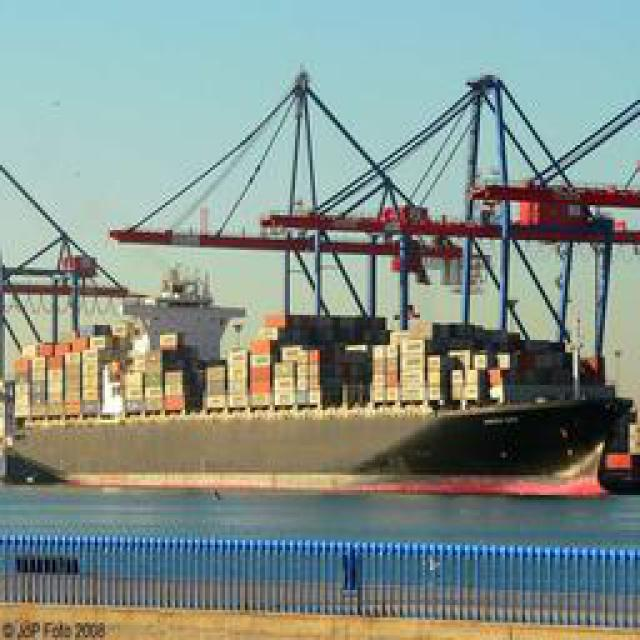Ship: (15, 42, 635, 515)
